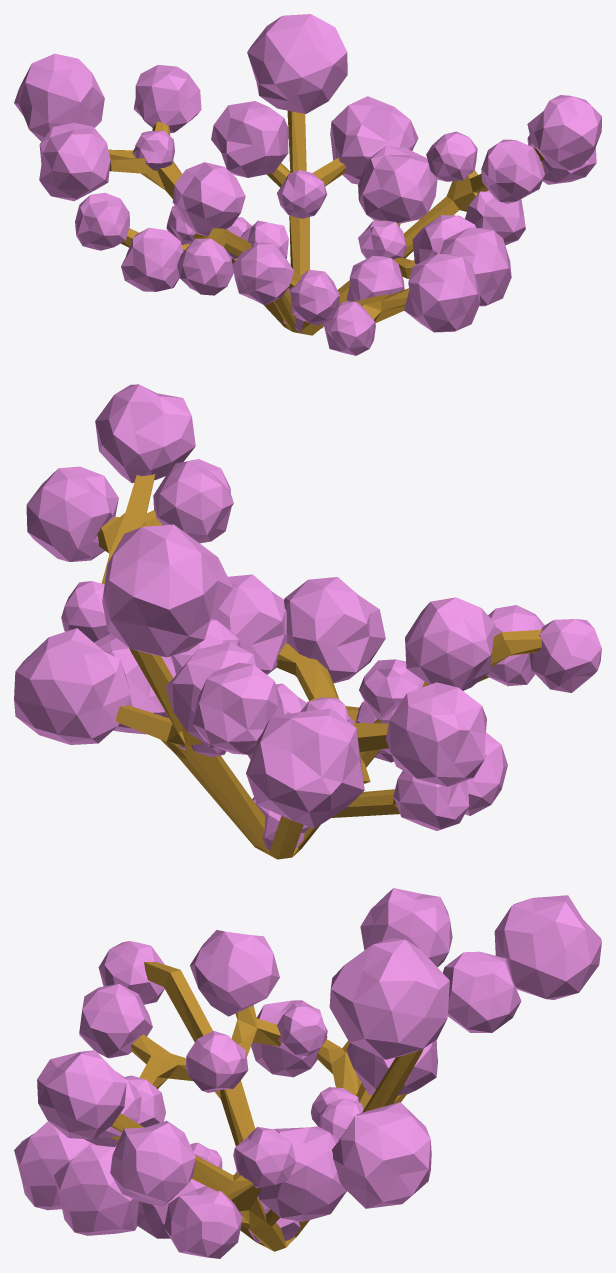
Rendered from bush_low_poly.glb.
The picture shows the model from 3 angles, top to bottom: view 1: azimuth 30°, elevation 25°; view 2: azimuth 150°, elevation 25°; view 3: azimuth 270°, elevation 25°; orthographic projection. The views are drawn at different scales.
Visible parts, largest first — view 1: Cube, Icosphere.002, Icosphere.005, Icosphere.018, Icosphere.016, Icosphere.001, Icosphere.006, Icosphere, Icosphere.023, Icosphere.009, Icosphere.004, Icosphere.015 (+17 smaller); view 2: Cube, Icosphere.002, Icosphere.005, Icosphere, Icosphere.006, Icosphere.016, Icosphere.023, Icosphere.009, Icosphere.022, Icosphere.004, Icosphere.021, Icosphere.015 (+10 smaller); view 3: Cube, Icosphere.002, Icosphere.005, Icosphere, Icosphere.023, Icosphere.009, Icosphere.022, Icosphere.015, Icosphere.018, Icosphere.004, Icosphere.006, Icosphere.020 (+13 smaller).
Boxes of the visible parts, <box> form: Cube: <box>108,110,544,335</box>; Icosphere.002: <box>247,14,347,113</box>; Icosphere.005: <box>14,53,104,141</box>; Icosphere.018: <box>358,146,437,223</box>; Icosphere.016: <box>404,253,480,332</box>; Icosphere.001: <box>211,101,288,177</box>; Icosphere.006: <box>39,122,110,201</box>; Icosphere: <box>330,96,418,184</box>; Icosphere.023: <box>527,95,601,170</box>; Icosphere.009: <box>172,162,245,236</box>; Icosphere.004: <box>133,65,201,133</box>; Icosphere.015: <box>440,227,511,306</box>; Cube: <box>97,474,542,859</box>; Icosphere.002: <box>102,524,232,657</box>; Icosphere.005: <box>246,708,364,828</box>; Icosphere: <box>14,628,130,744</box>; Icosphere.006: <box>385,682,486,786</box>; Icosphere.016: <box>284,577,385,683</box>; Icosphere.023: <box>95,384,195,483</box>; Icosphere.009: <box>405,597,495,690</box>; Icosphere.022: <box>26,466,118,561</box>; Icosphere.004: <box>192,662,283,754</box>; Icosphere.021: <box>153,459,233,543</box>; Icosphere.015: <box>211,574,287,674</box>; Cube: <box>110,962,423,1251</box>; Icosphere.002: <box>329,938,449,1059</box>; Icosphere.005: <box>494,895,601,999</box>; Icosphere: <box>332,1102,431,1208</box>; Icosphere.023: <box>37,1050,126,1139</box>; Icosphere.009: <box>190,930,279,1016</box>; Icosphere.022: <box>110,1120,195,1206</box>; Icosphere.015: <box>53,1143,138,1235</box>; Icosphere.018: <box>258,1126,346,1221</box>; Icosphere.004: <box>442,951,521,1032</box>; Icosphere.006: <box>360,888,452,967</box>; Icosphere.020: <box>164,1186,242,1258</box>.
Bounding box in the file's own units: 69.01 × 39.49 × 65.31.
